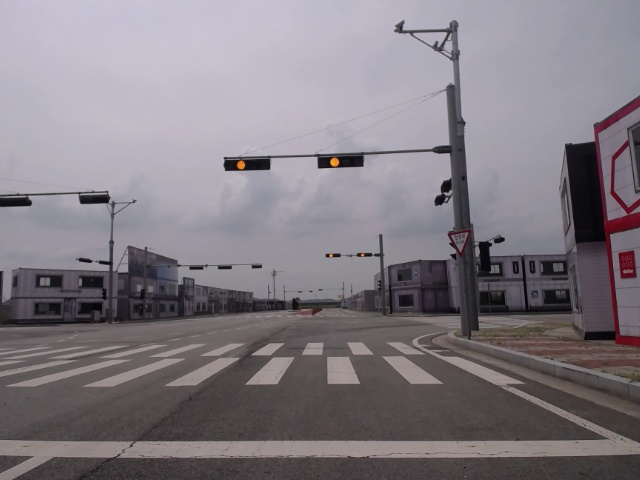orange_4: (316, 153, 366, 169), (223, 157, 271, 172), (354, 251, 375, 259), (324, 252, 343, 258)
